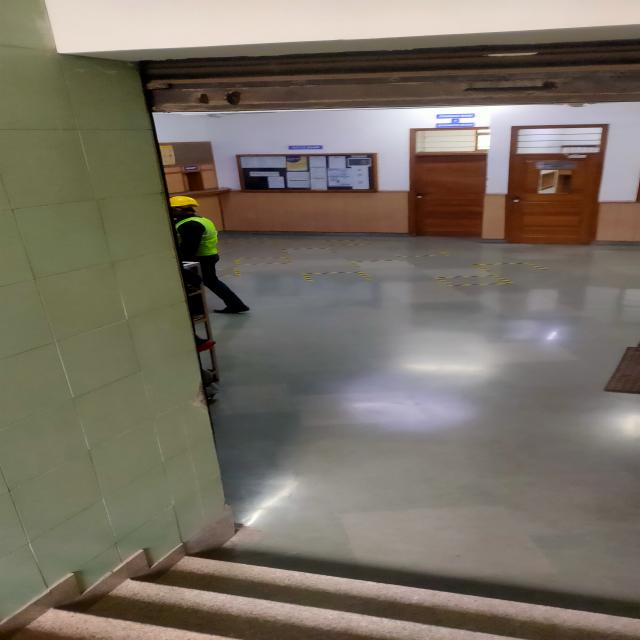safe: (169, 194, 251, 313)
